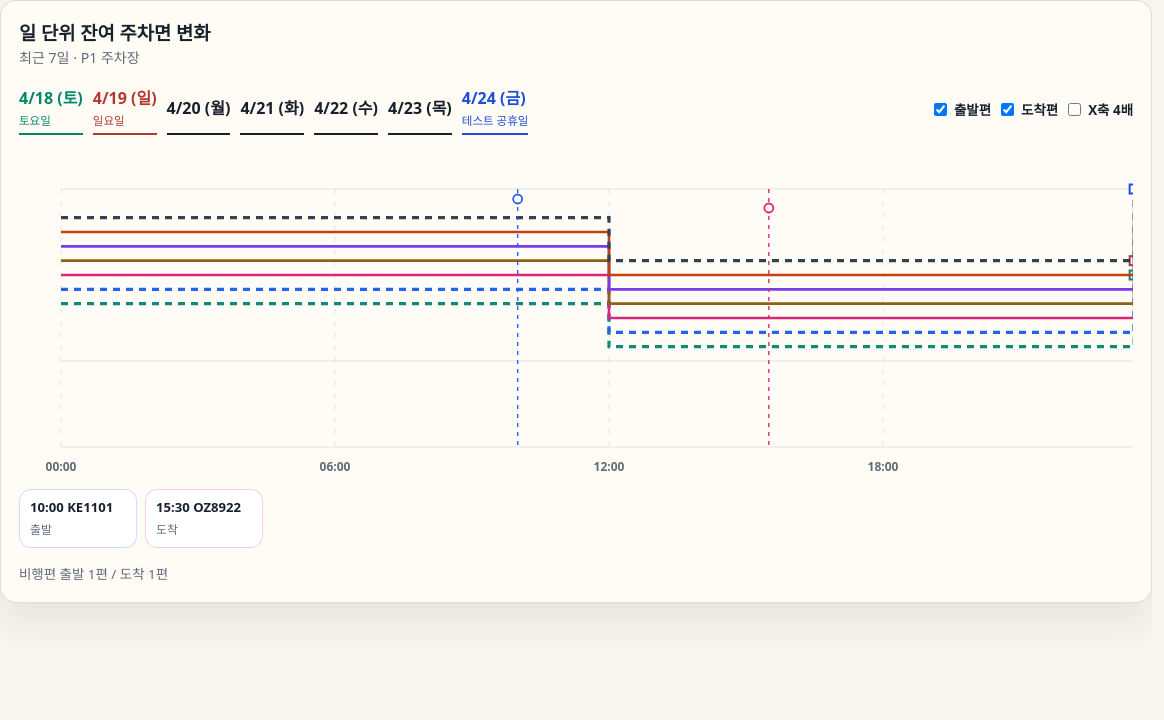
Test: DailyFlightOverlayChart › toggles departure and arrival markers independently
The width and height of the screenshot is (1164, 720).
Click the checkbox labelled "출발편": (940,110) left=934, top=103, right=947, bottom=116
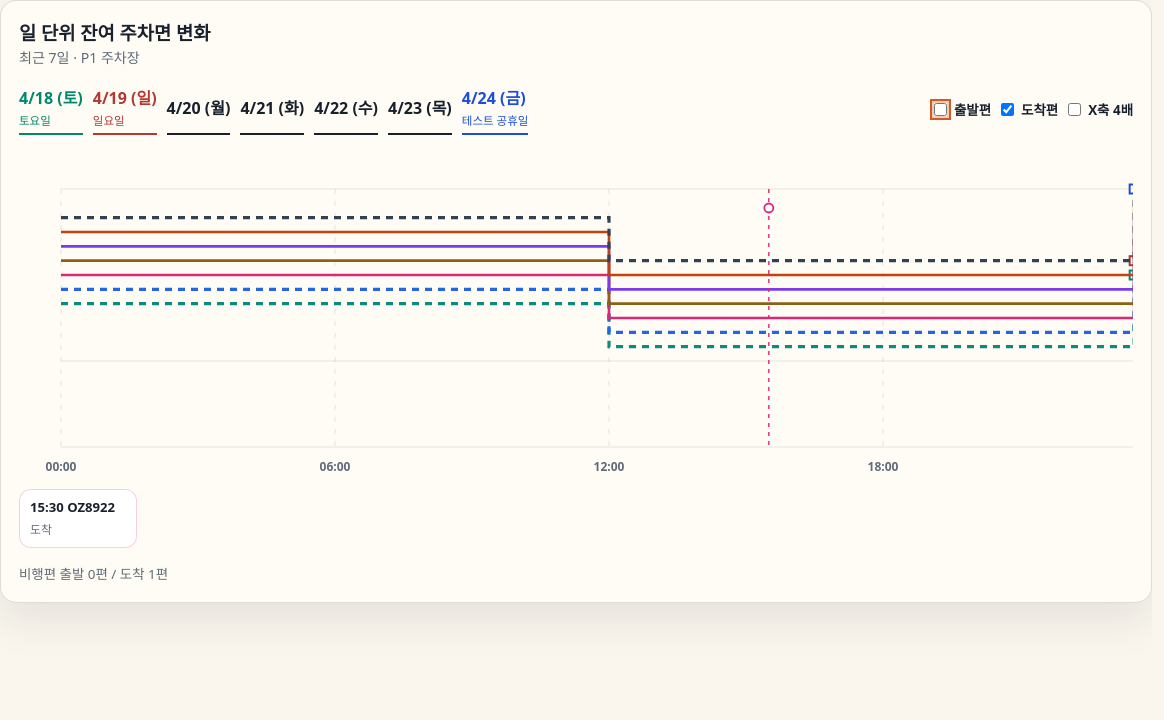
Expected: the text "비행편 출발 0편 / 도착 1편" is shown, left=19, top=564, right=168, bottom=584
Click the checkbox labelled "도착편": (1008,110) left=1001, top=103, right=1014, bottom=116
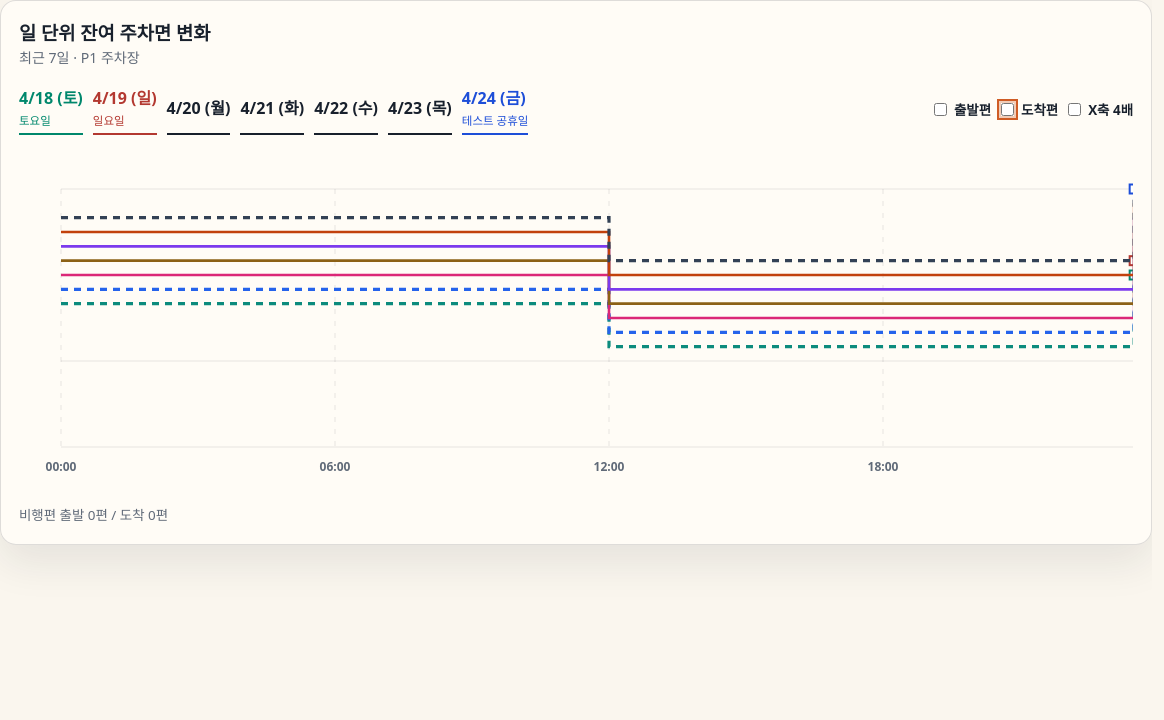
Expected: the text "비행편 출발 0편 / 도착 0편" is shown, left=19, top=506, right=168, bottom=526
